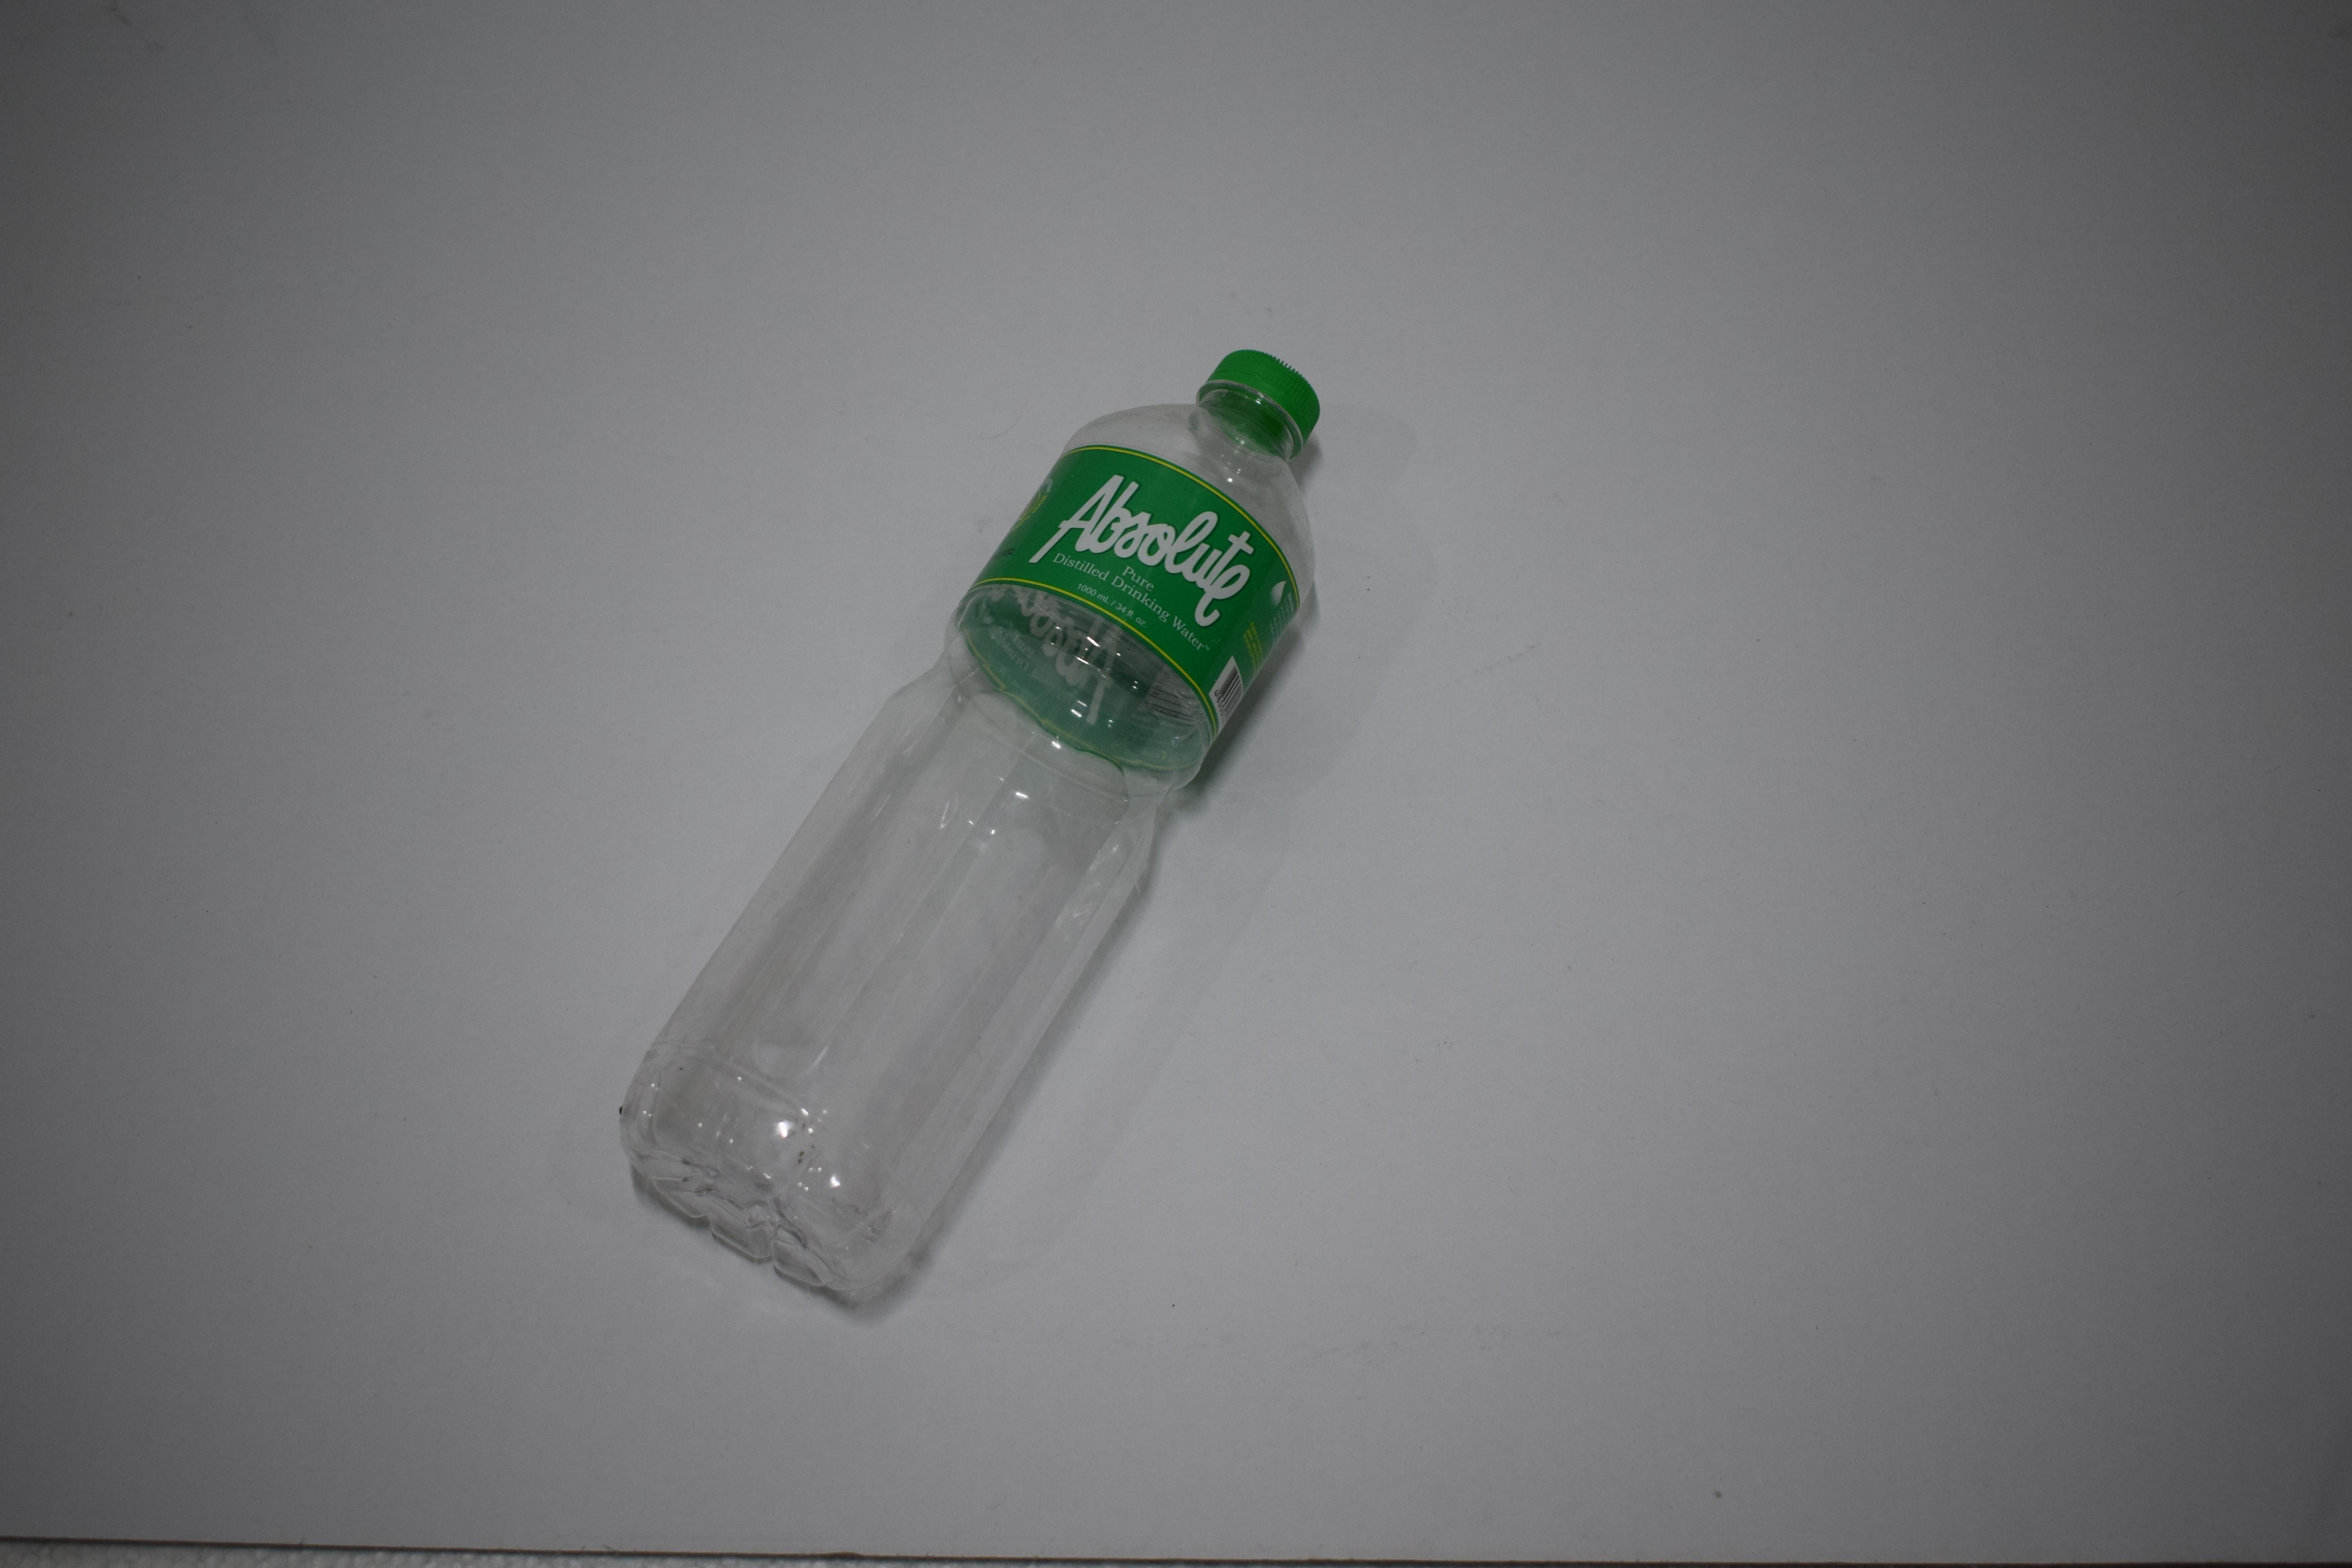bottle: (614, 0, 1323, 536)
